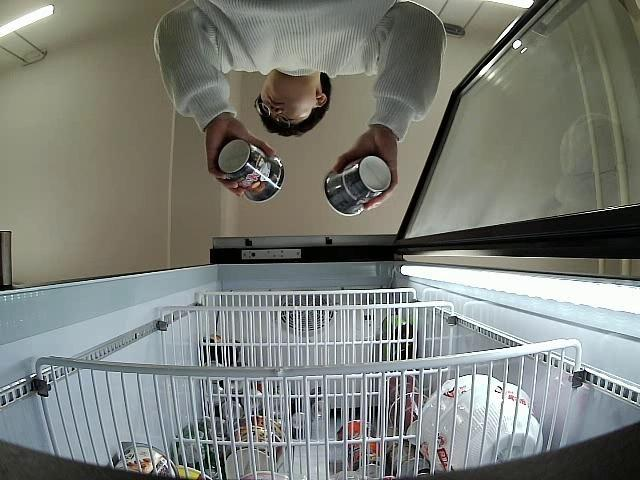08_buldak_S: (324, 153, 391, 216), (218, 140, 285, 202)
